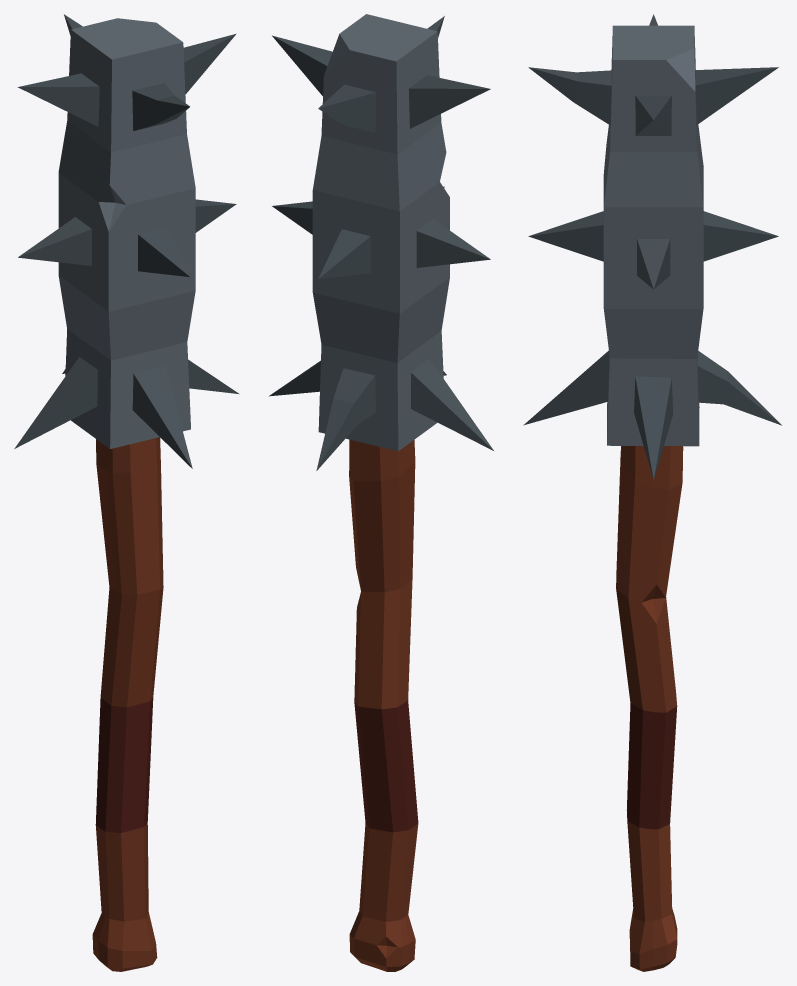
Rendered from mace.fbx.
3 views of the same model, side by side, from view 1: azimuth 30°, elevation 25°; view 2: azimuth 150°, elevation 25°; view 3: azimuth 270°, elevation 25° (orthographic).
Parts seen in each view (by area): view 1: mace; view 2: mace; view 3: mace.
Part boxes in pixels (bbox=[...]): mace: bbox=[14, 14, 239, 971]; mace: bbox=[269, 14, 493, 971]; mace: bbox=[523, 14, 781, 971].
Bounding box in the file's own units: 15.53 × 60.92 × 15.58.
